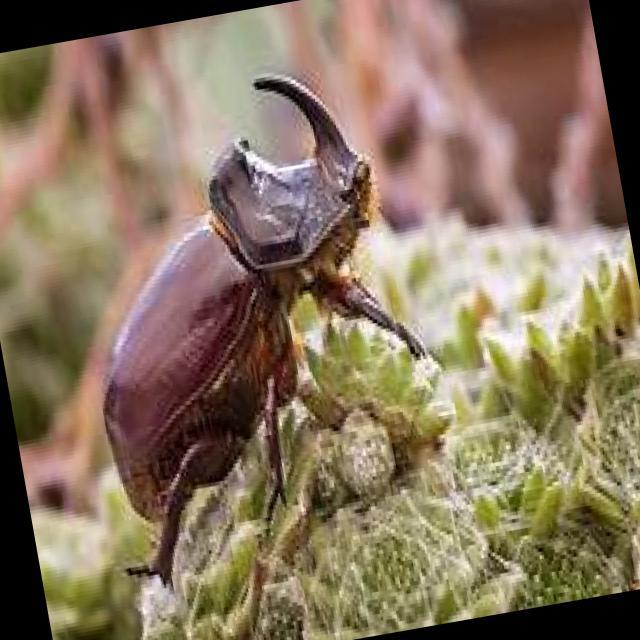Rhino-beetle: (73, 66, 388, 577)
